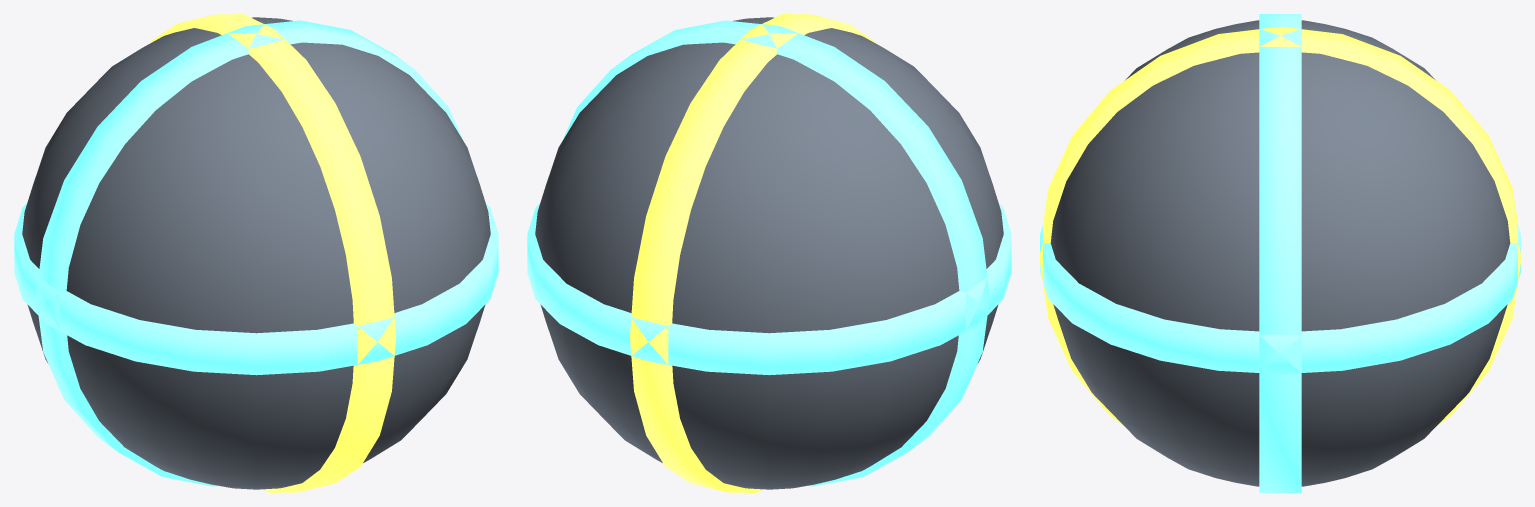
Rendered from stunt_ball.glb.
3 renders of one model, left to right at view 1: azimuth 30°, elevation 25°; view 2: azimuth 150°, elevation 25°; view 3: azimuth 270°, elevation 25°, orthographic.
Parts seen in each view (by area): view 1: BallCore, BandZ, BandX, BandY; view 2: BallCore, BandZ, BandX, BandY; view 3: BallCore, BandZ, BandY, BandX.
Part boxes in pixels (x1,y1,x2,y2): BallCore: [22, 17, 490, 489]; BandZ: [14, 203, 498, 375]; BandX: [151, 14, 395, 492]; BandY: [36, 20, 463, 486]; BallCore: [535, 17, 1003, 489]; BandZ: [527, 203, 1011, 375]; BandX: [630, 14, 874, 492]; BandY: [562, 20, 989, 486]; BallCore: [1050, 20, 1510, 486]; BandZ: [1040, 226, 1520, 374]; BandY: [1259, 14, 1301, 492]; BandX: [1040, 26, 1520, 425].
Bounding box in the file's own units: 2.5 × 2.5 × 2.5.
